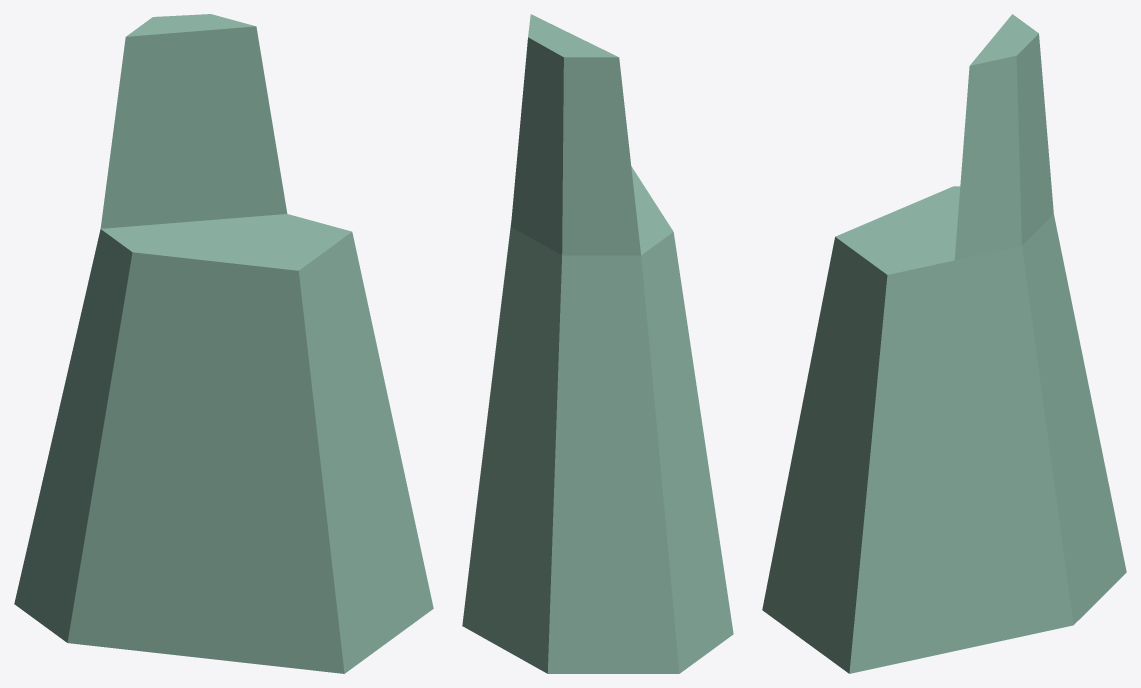
Rendered from naturePack_038.fbx.
3 renders of one model, left to right at view 1: azimuth 30°, elevation 25°; view 2: azimuth 150°, elevation 25°; view 3: azimuth 270°, elevation 25°, orthographic. The views are drawn at different scales.
Parts seen in each view (by area): view 1: naturePack_038; view 2: naturePack_038; view 3: naturePack_038.
Boxes of the visible parts, x1,y1,x2,y2 form: naturePack_038: (14,14,433,673); naturePack_038: (462,14,733,673); naturePack_038: (762,14,1126,673).
Bounding box in the file's own units: 123 × 214 × 128.
